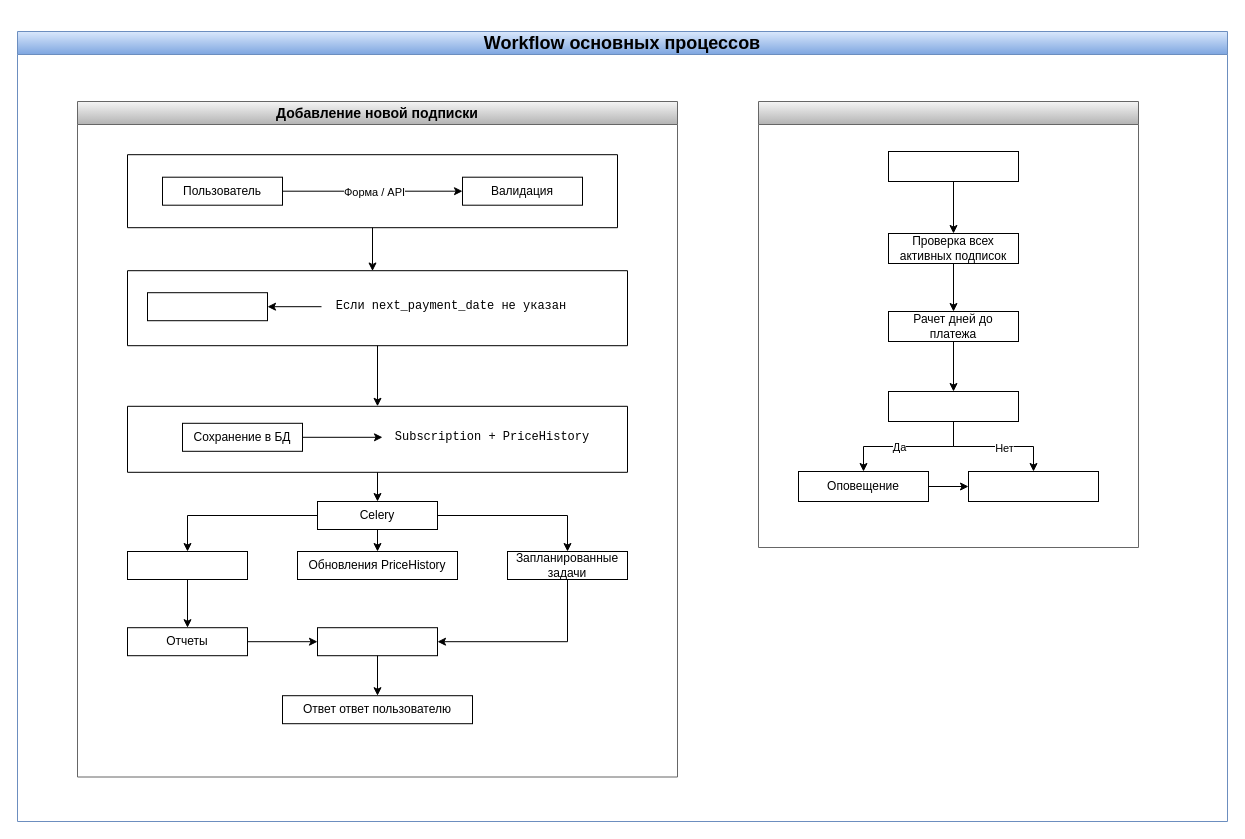
Some shapes in this 1245 by 839 pixel diagram are drawn without their labels. The box of each missing label's shape, as (x1, y1, x2, y2) in pixels:
Celery Beat: (888, 150, 1018, 182)
Аналитика: (126, 550, 248, 580)
Ежедневная обработка: (758, 100, 1138, 548)
Проверка настроек оповещения: (888, 390, 1018, 422)
Расчет дат: (146, 292, 268, 321)
Следующая подписка: (968, 470, 1098, 502)
Уведомления: (316, 627, 438, 656)
